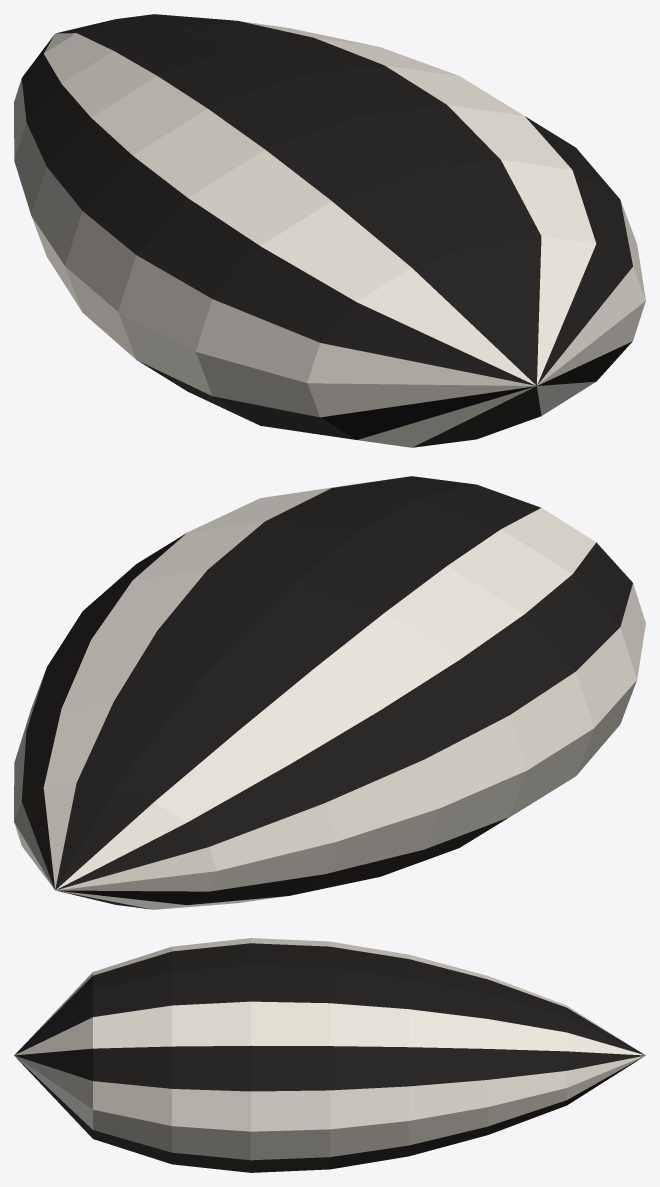
Rendered from seed_shot.glb.
3 views of the same model, one above another, from view 1: azimuth 30°, elevation 25°; view 2: azimuth 150°, elevation 25°; view 3: azimuth 270°, elevation 25° (orthographic). The views are drawn at different scales.
Visible parts, largest first — view 1: SeedShot; view 2: SeedShot; view 3: SeedShot.
Boxes of the visible parts, x1,y1,x2,y2 form: SeedShot: (14, 14, 645, 447); SeedShot: (14, 476, 645, 909); SeedShot: (14, 938, 645, 1172).
Bounding box in the file's own units: 0.2396 × 0.1318 × 0.42.
1 material, 1 textured.
